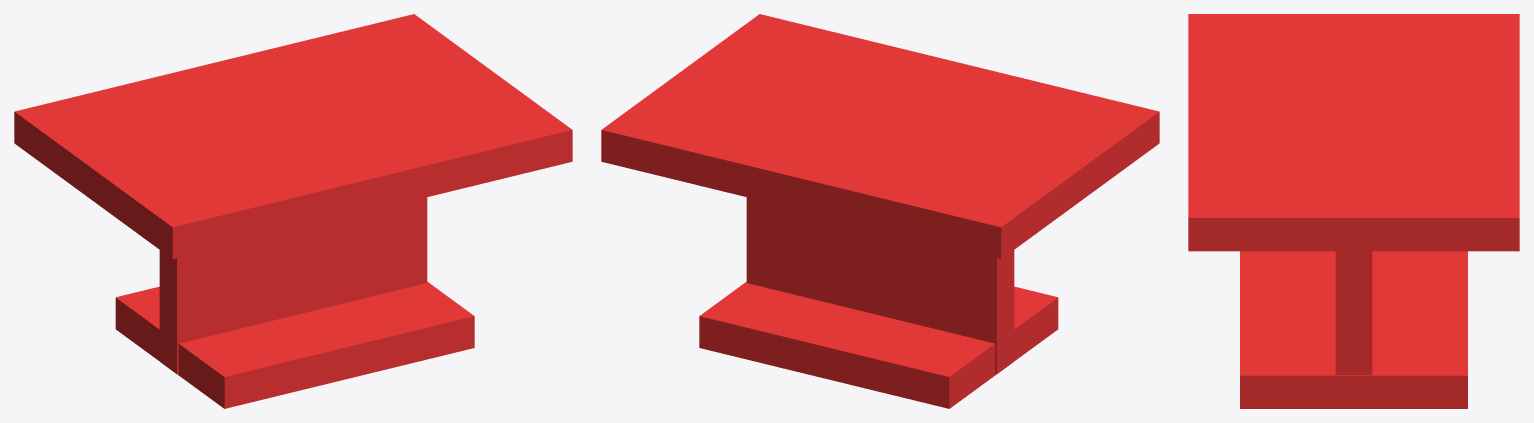
The model's file is Table.fbx.
3 views of the same model, side by side, from view 1: azimuth 30°, elevation 25°; view 2: azimuth 150°, elevation 25°; view 3: azimuth 270°, elevation 25° (orthographic). The views are drawn at different scales.
Parts seen in each view (by area): view 1: Table; view 2: Table; view 3: Table.
Part boxes in pixels (bbox=[...]): Table: bbox=[14, 14, 572, 408]; Table: bbox=[601, 14, 1159, 408]; Table: bbox=[1188, 14, 1519, 408].
Bounding box in the file's own units: 73.37 × 38.27 × 50.31.
